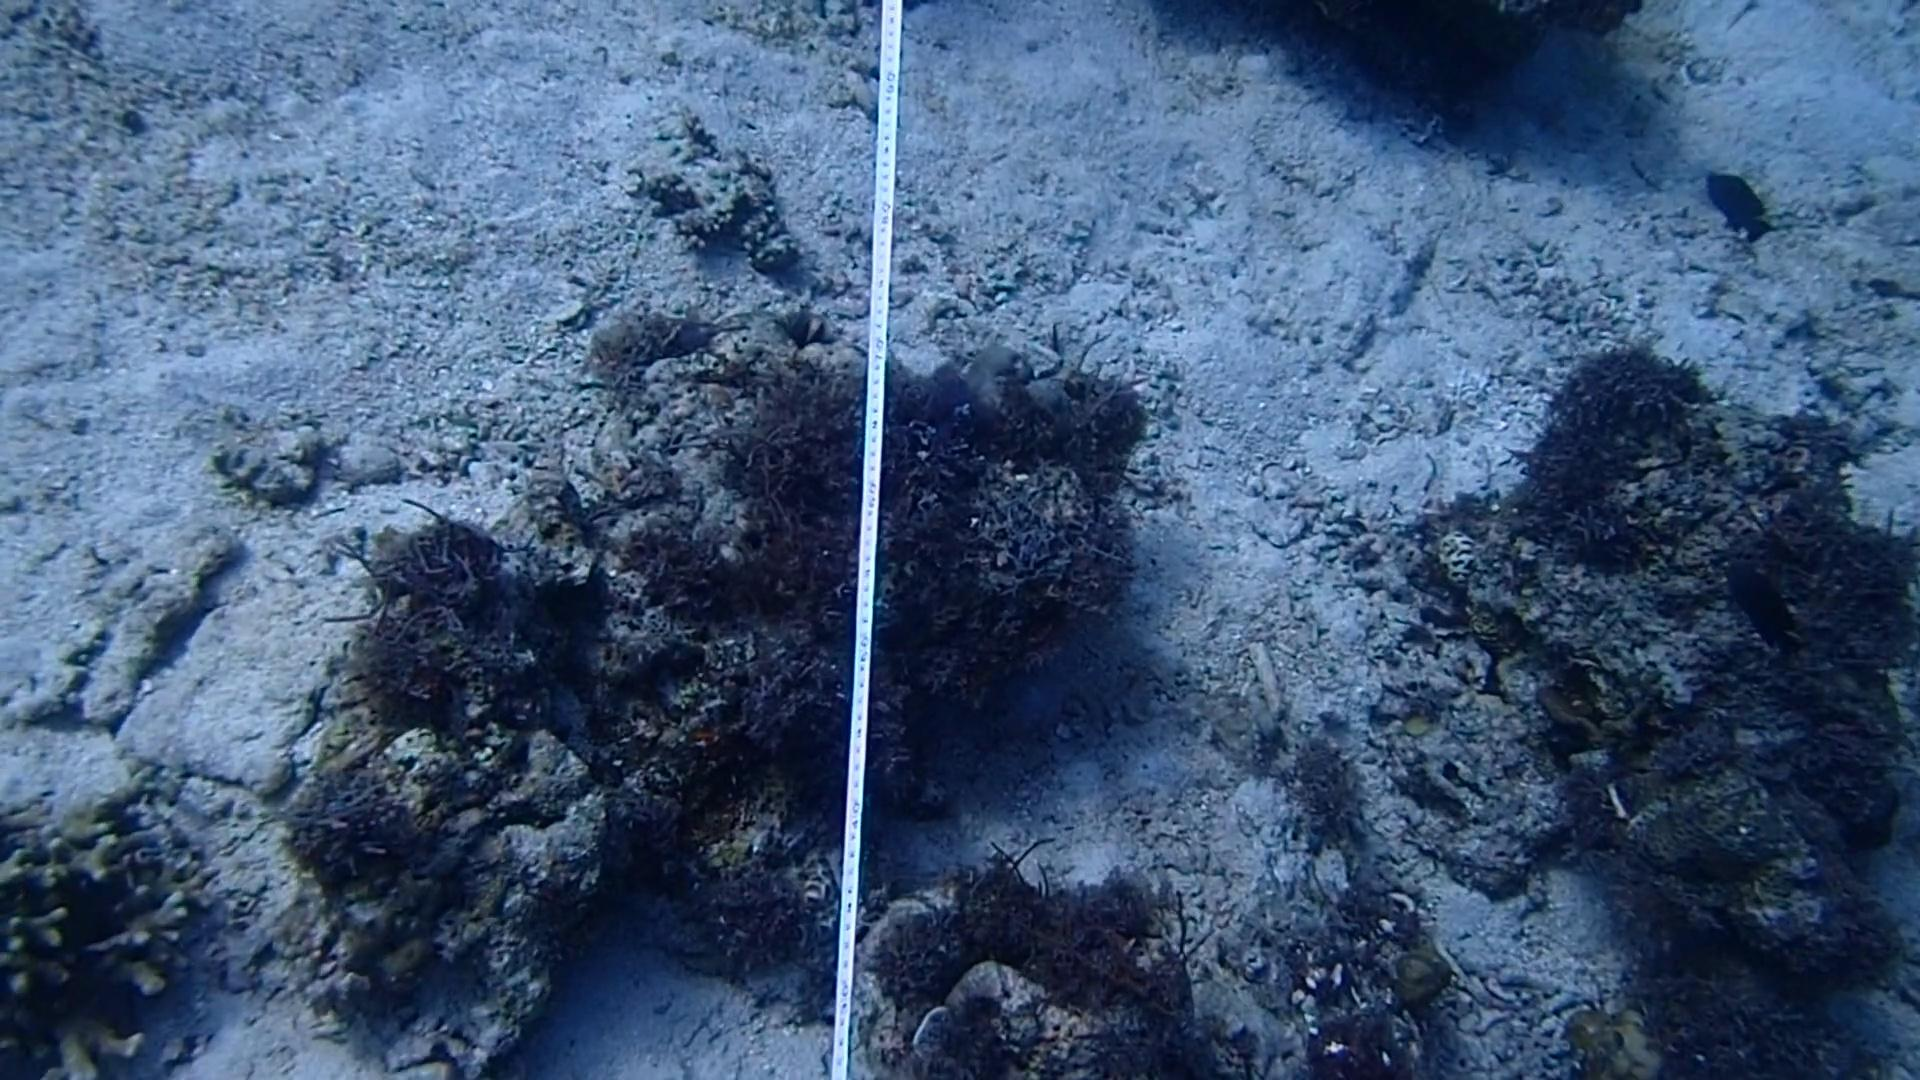Dark Fish: (1713, 542, 1805, 666), (1687, 154, 1782, 261)
